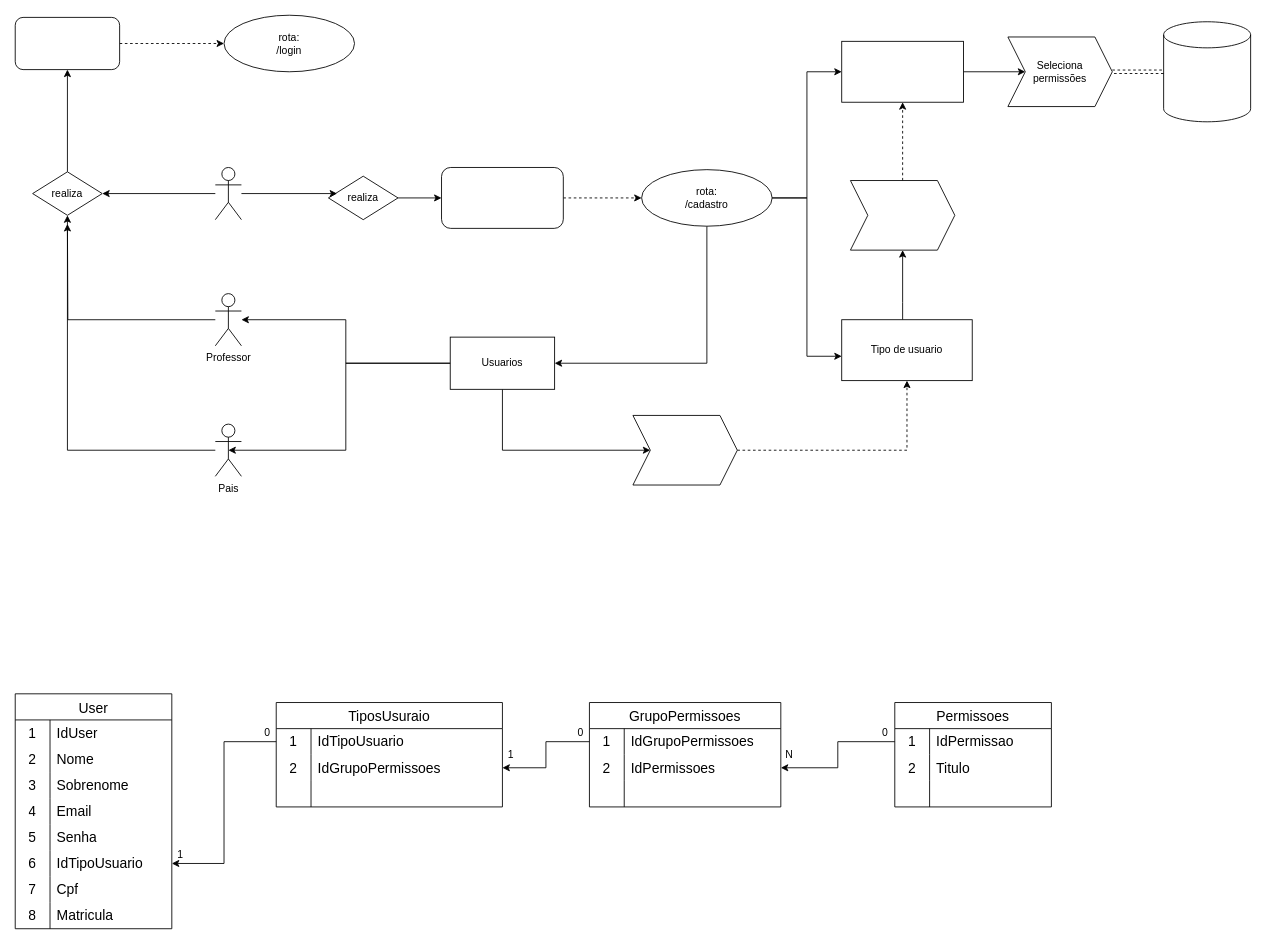
Some shapes in this 1266 by 944 pixel diagram are drawn without their labels. The shapes that lost their labels are listed below. From the top down, each one's centre as x and y in pixels, then its label:
At (67,43): "Login".
At (902,71): "Grupo de permissoes".
At (1207,71): "Permissões".
At (227,193): "Gestor".
At (502,197): "Cadastro".
At (902,215): "Seleciona grupo de permissões".
At (684,450): "Seleciona Tipo de usuario".
